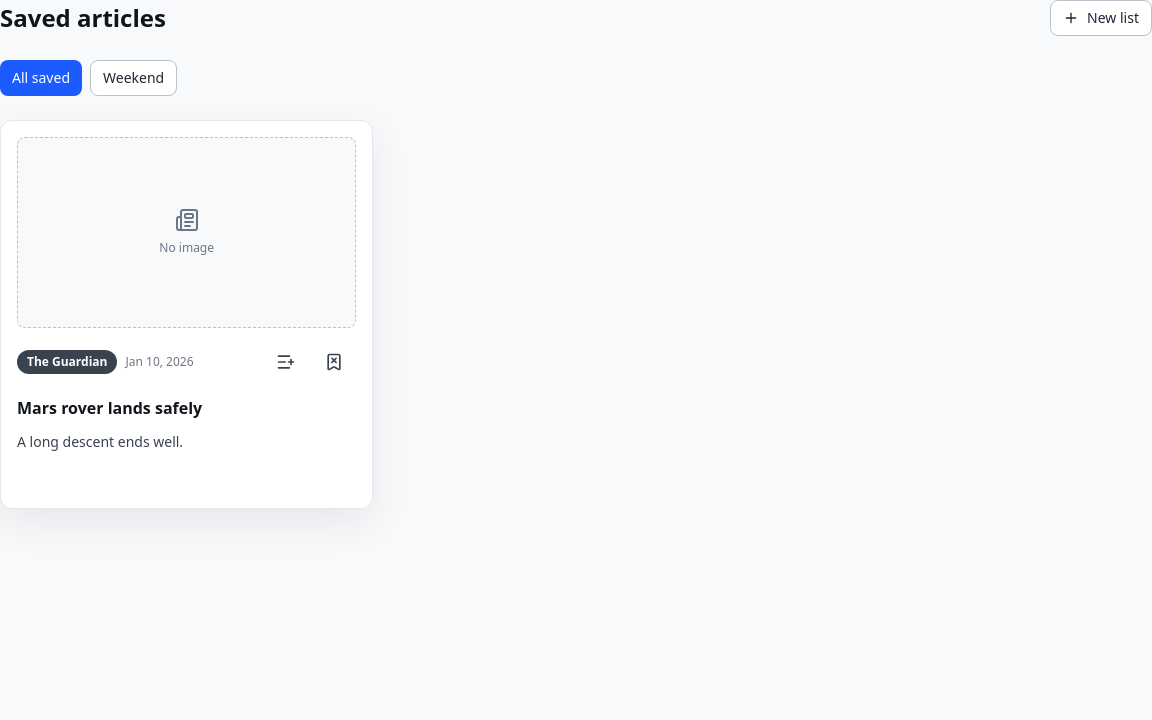
it: BookmarksPage — reading lists › deletes the list on confirm and falls back to everything saved
Click the button "Weekend": x=134, y=78 [90, 60, 177, 96]
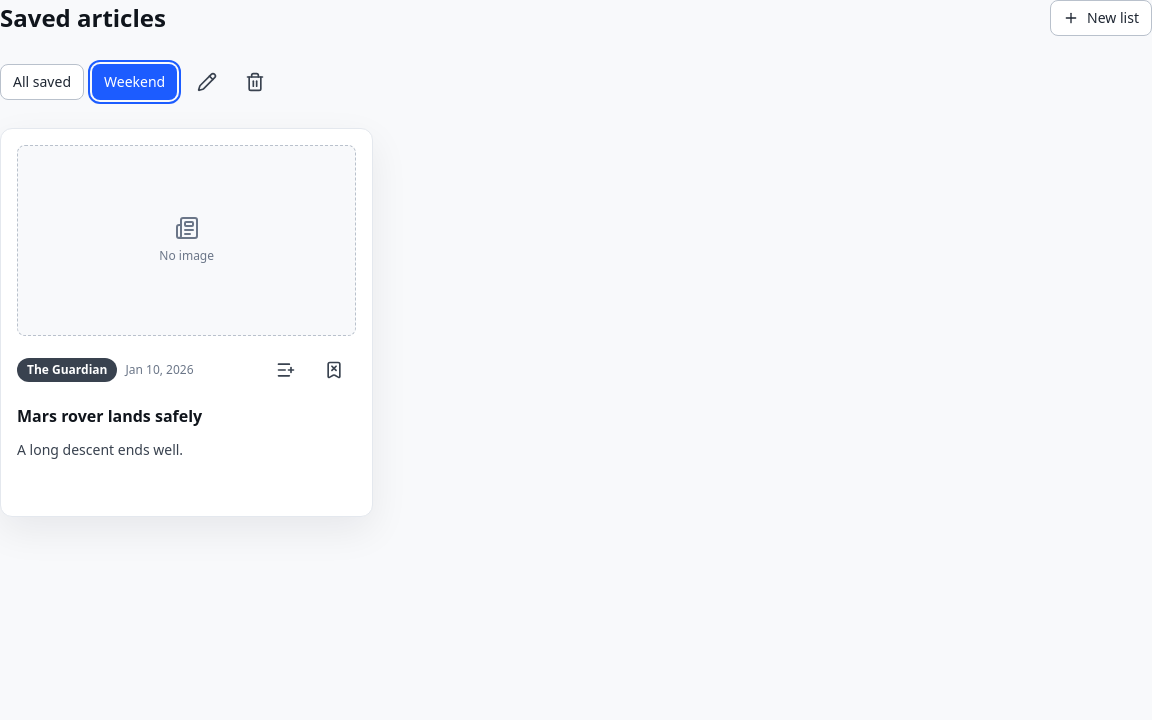
Click the button named "Delete list": x=255, y=82 [233, 60, 277, 104]
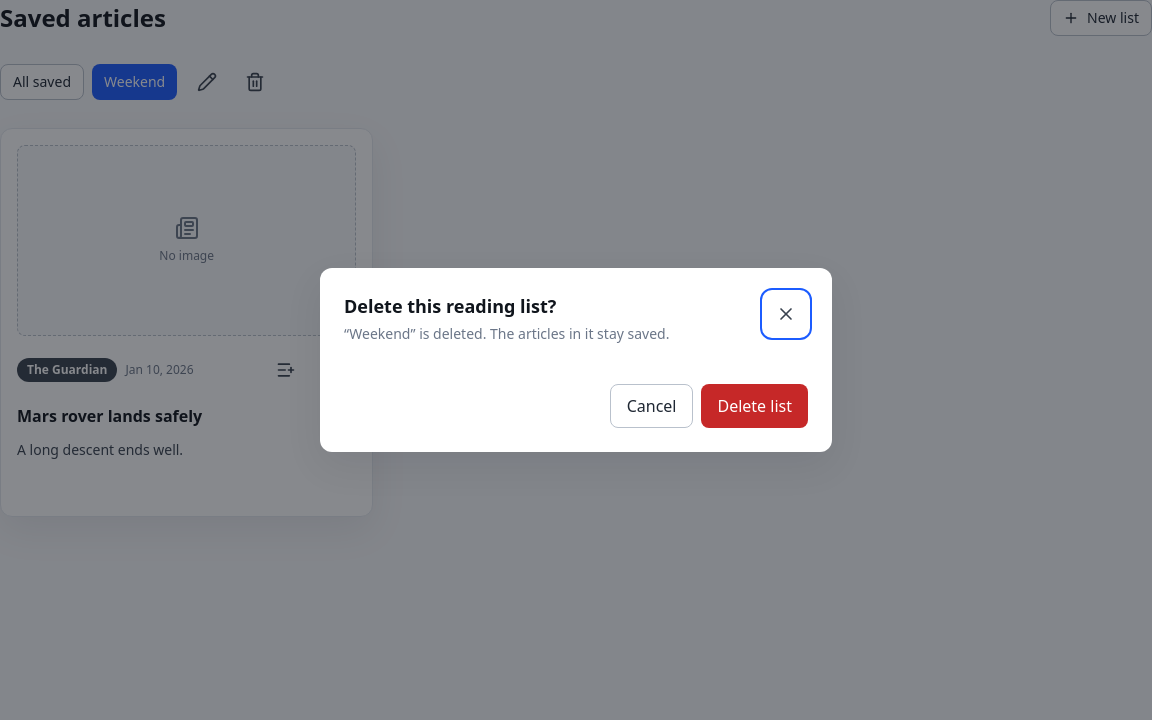
expect the dialog shows "Weekend": met, box [344, 324, 670, 343]
Click the button "Delete list": x=755, y=406 [702, 384, 808, 428]
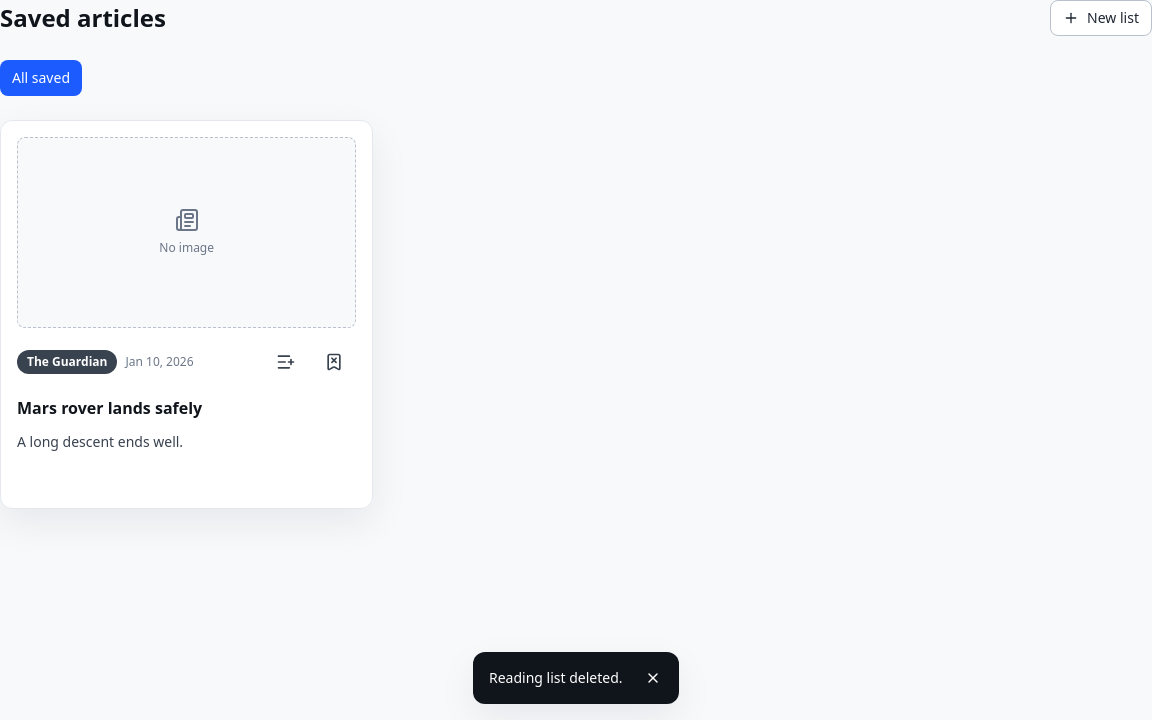
expect the link "Mars rover lands safely" is shown: met, box [17, 397, 202, 419]
expect the button "Weekend" is gone: met
expect the text "Reading list deleted." is shown: met, box [489, 668, 623, 688]
